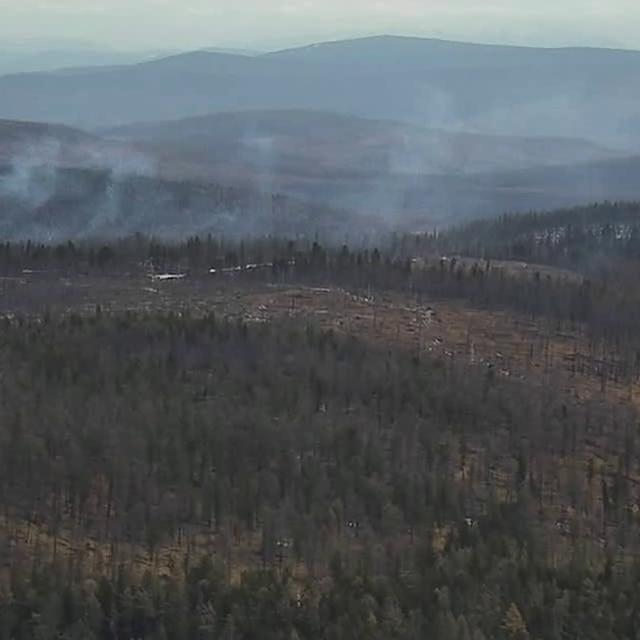Smoke: (1, 86, 476, 278)
